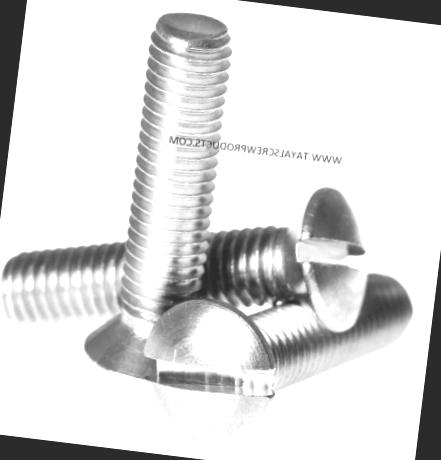slotted: (134, 296, 284, 456)
